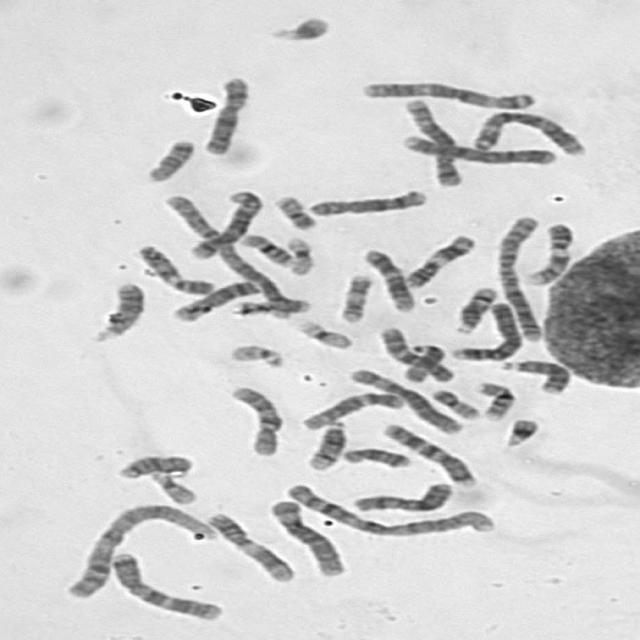A1: (59, 500, 218, 600), (280, 479, 502, 538)
A2: (157, 190, 303, 320), (489, 210, 547, 342)
A3: (466, 106, 590, 158), (355, 76, 540, 110)
B4: (397, 131, 558, 167), (447, 298, 526, 362)
B5: (397, 94, 467, 188), (185, 186, 268, 260)
C10: (374, 323, 458, 384), (225, 382, 287, 458)
C11: (202, 508, 299, 583), (399, 230, 479, 290)
C12: (297, 388, 408, 432), (358, 245, 419, 313)
C6: (344, 365, 466, 435), (265, 495, 349, 577)
C7: (105, 548, 230, 622), (375, 420, 479, 488)
C8: (166, 277, 261, 322), (302, 186, 430, 217)
C9: (132, 240, 219, 296), (520, 218, 576, 286)
D13: (88, 278, 148, 344), (494, 356, 572, 396)
D14: (449, 283, 501, 335), (302, 416, 351, 471)
D15: (112, 451, 196, 480), (398, 340, 448, 383)
E16: (236, 230, 297, 268), (470, 377, 519, 421)
E17: (333, 270, 375, 324), (228, 294, 313, 316)
E18: (140, 134, 198, 182), (337, 442, 414, 470)
F19: (290, 316, 356, 351), (281, 233, 317, 277)
F20: (425, 385, 484, 421), (269, 192, 320, 230)
G21: (264, 11, 334, 43), (497, 414, 544, 448)
G22: (143, 468, 200, 505), (224, 339, 288, 369)
X: (198, 72, 253, 156), (347, 478, 458, 514)
